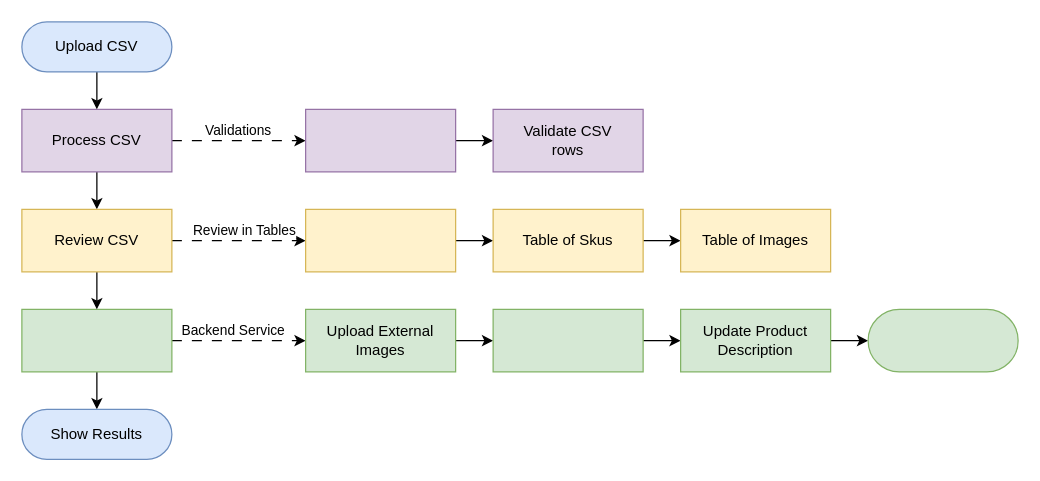
The diagram is 1040 pixels wide and 481 high, and some of its shapes have lost their labels. Here are the shapes that lost their labels. From the top down, the centre of each, then its label:
the point at 380,140: Validate CSV headers
the point at 380,240: Table of Products
the point at 96,340: Import CSV
the point at 567,340: Create / Update Products
the point at 942,340: Return Results
